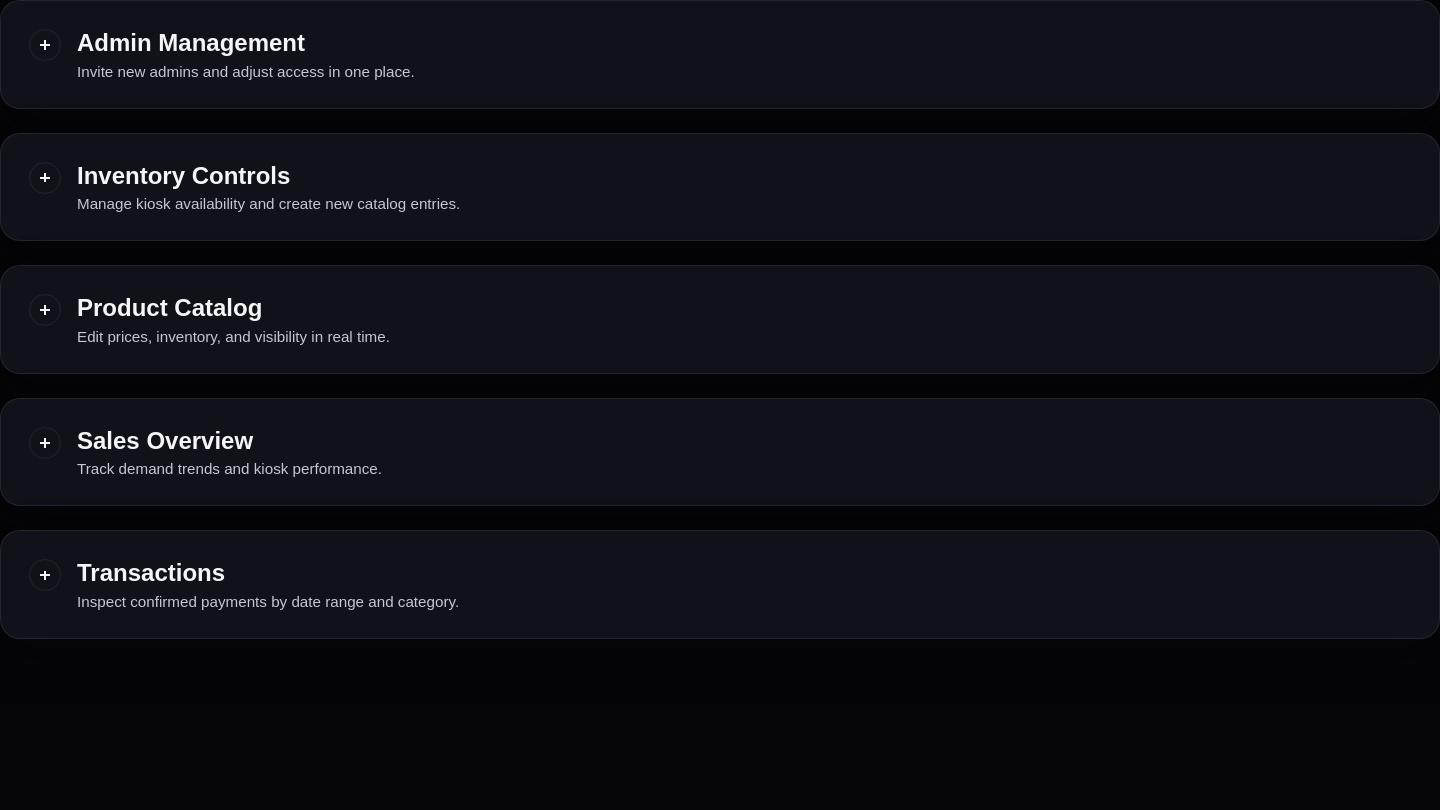
AdminDashboard › renders admin management data when section is expanded
Click the button "Admin Management" at [45, 45], box [29, 29, 1411, 80]
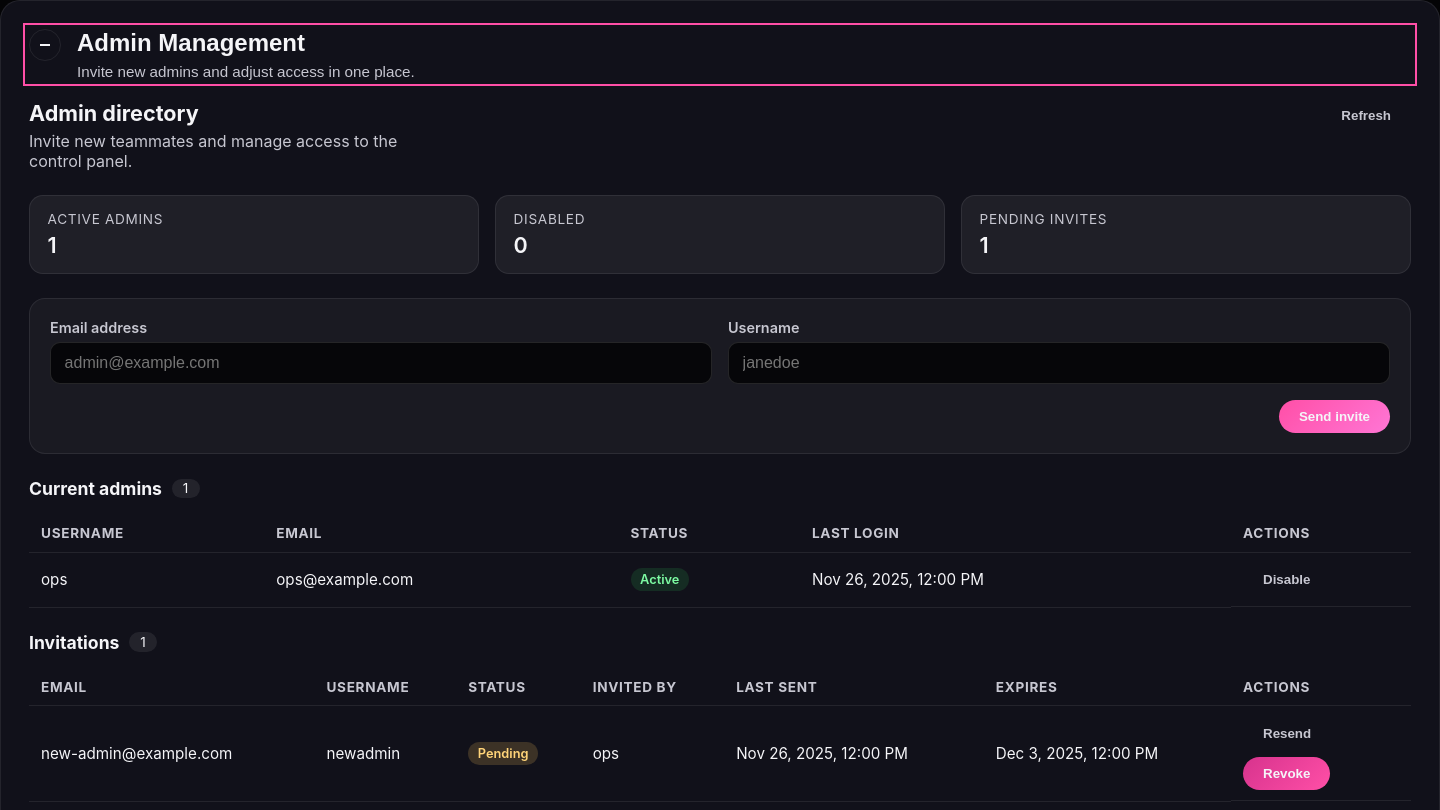
expect the text "ops@example.com" is shown: met, box [264, 552, 618, 607]
expect the text "Pending invites" is shown: met, box [980, 211, 1107, 227]
expect the text "new-admin@example.com" is shown: met, box [29, 706, 314, 801]
